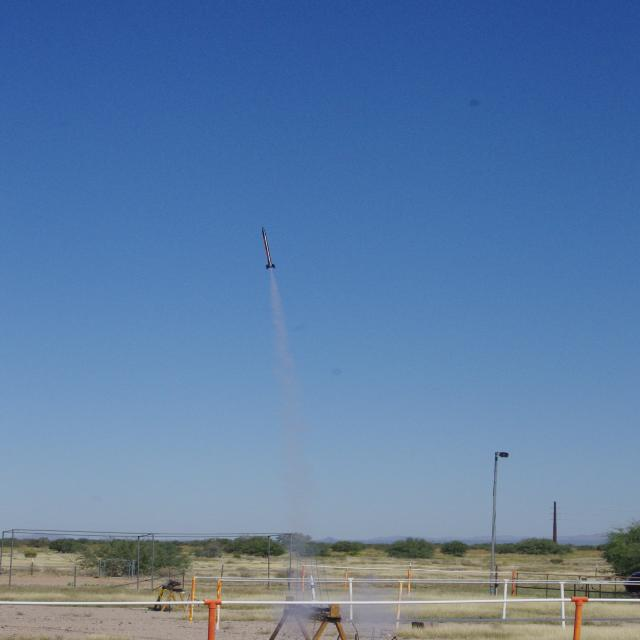Rocket: (261, 226, 277, 269), (309, 575, 319, 604)
